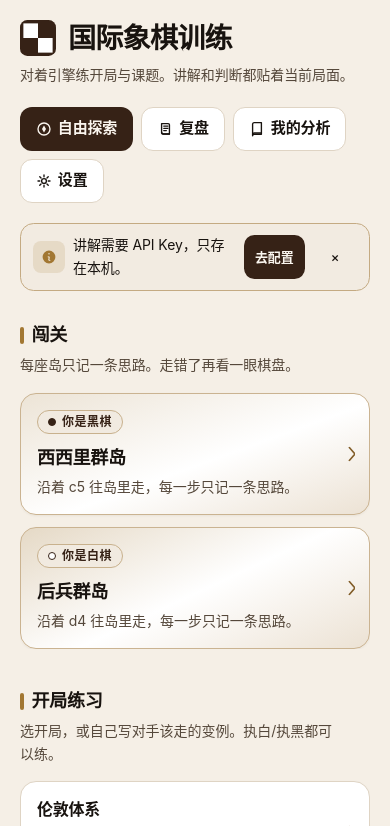
HomePage API key banner › shows a dismissible banner with a configure CTA
The width and height of the screenshot is (390, 826).
Expected: the text "讲解需要 API Key，只存在本机。" is shown, 73,234 -> 236,280
Click the button named "关闭提示": (335, 257) 313,235 -> 357,279
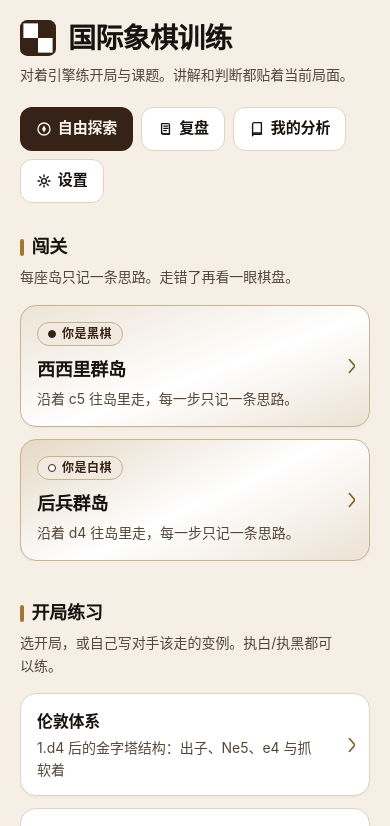
Result: the text "讲解需要 API Key" is gone
